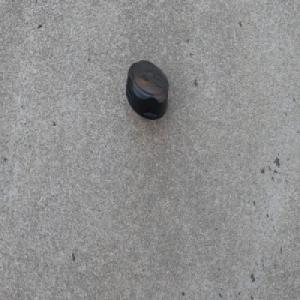FuelCap: (125, 57, 170, 123)
